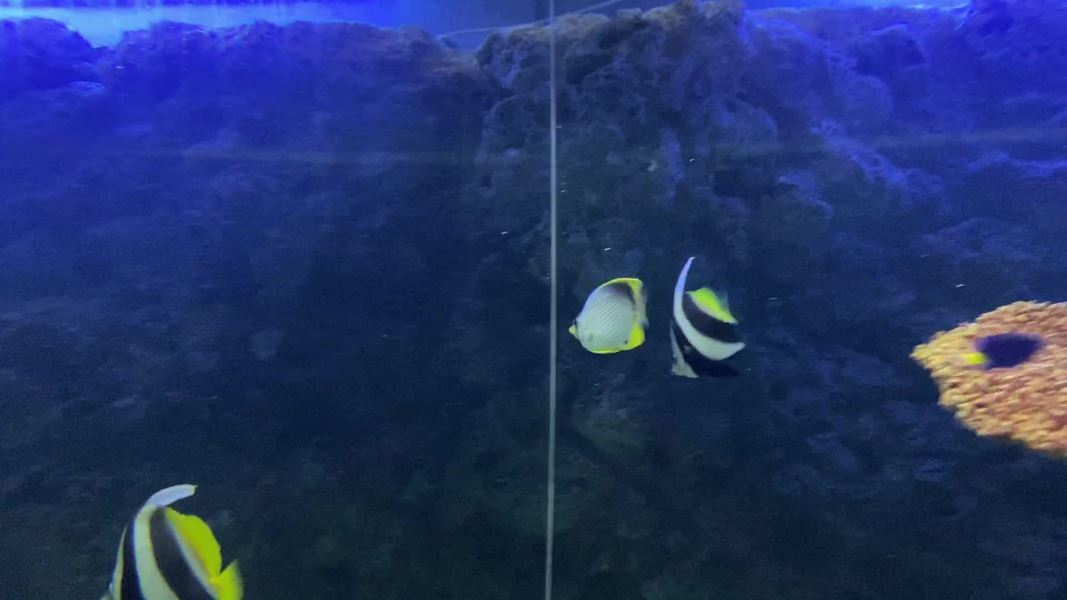Black-backed butterflyfish: (562, 269, 661, 361)
